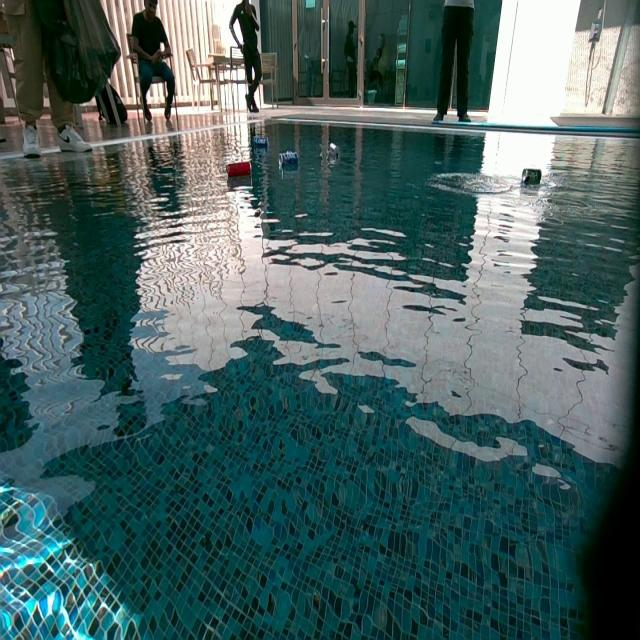Cans: (228, 163, 253, 180), (520, 169, 542, 186), (280, 152, 300, 169), (329, 141, 340, 162), (253, 136, 269, 150)
